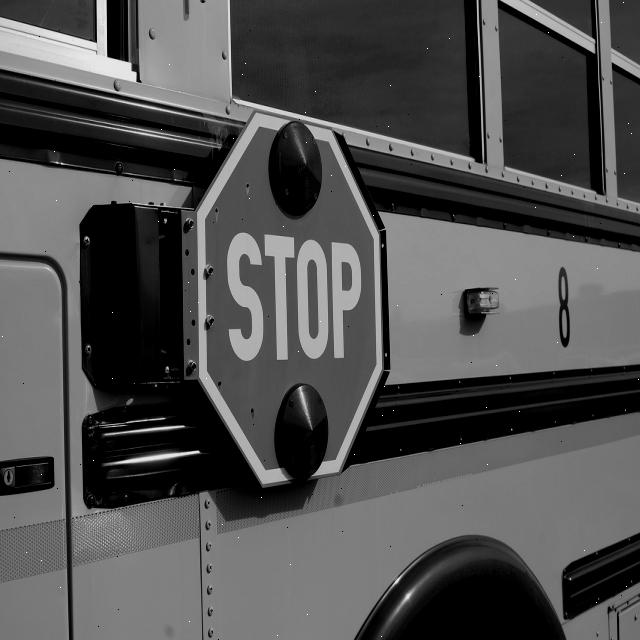Stop-sign: (177, 99, 393, 499)
